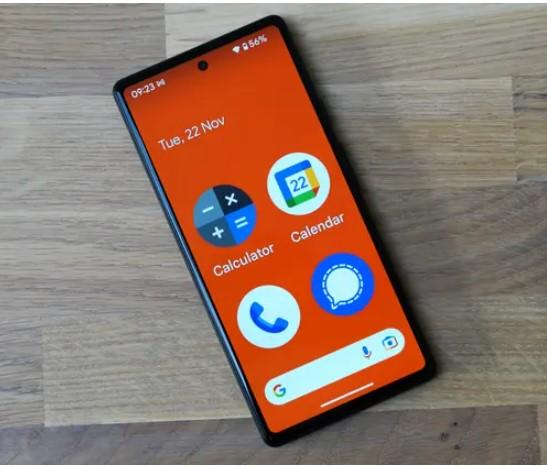Smart Phone: (112, 16, 435, 449)
